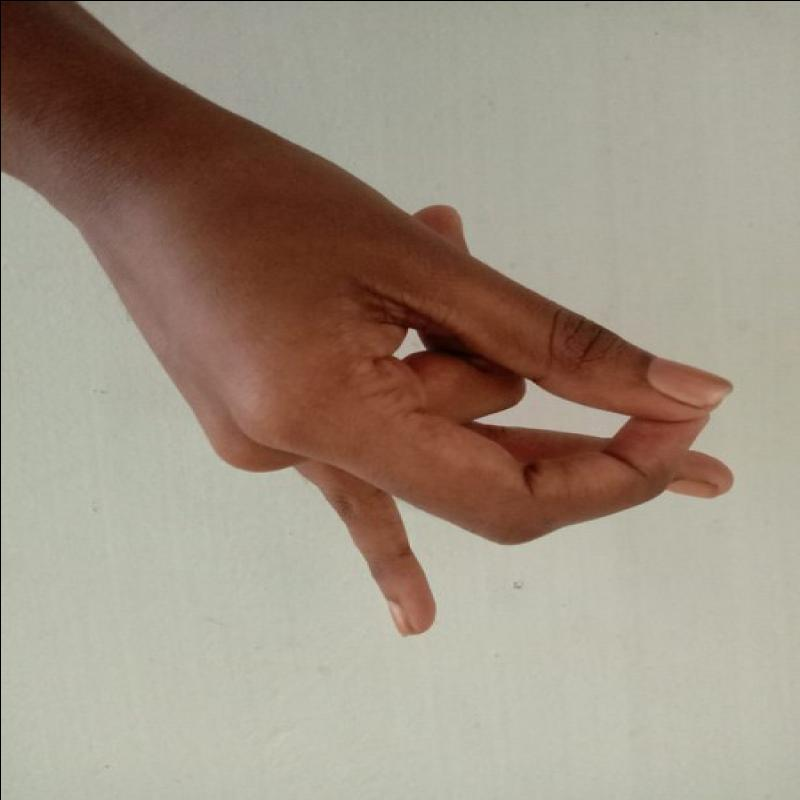Katakam: (136, 97, 748, 645)
